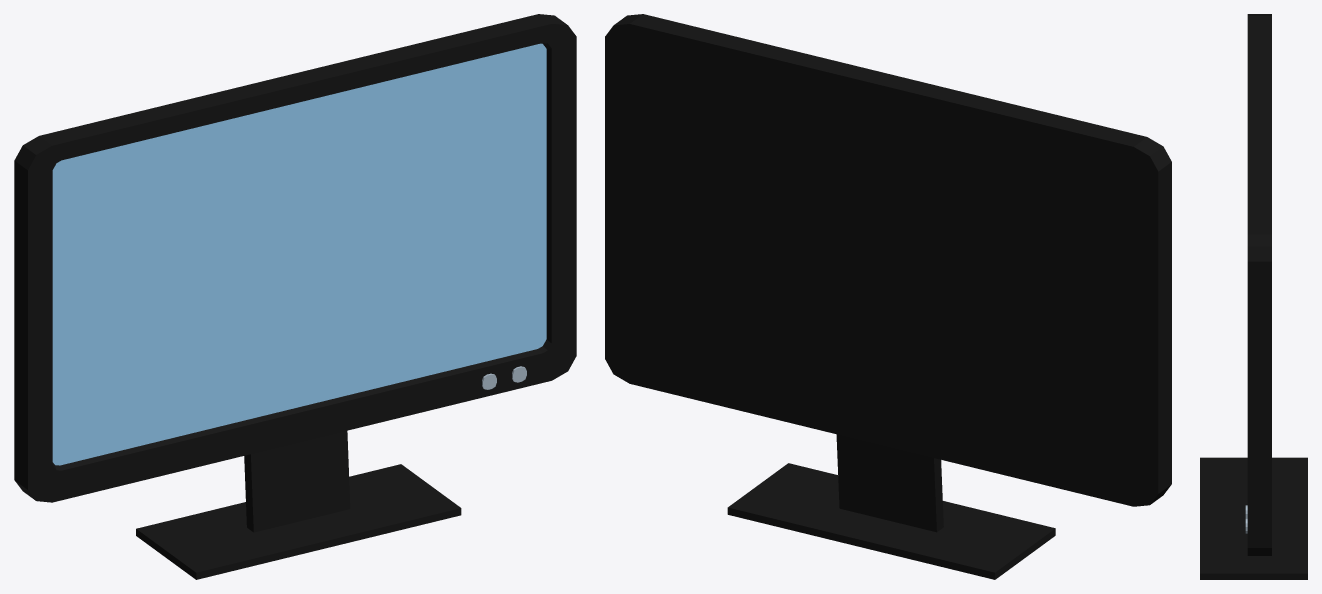
Rendered from monitor.fbx.
The picture shows the model from 3 angles, left to right: view 1: azimuth 30°, elevation 25°; view 2: azimuth 150°, elevation 25°; view 3: azimuth 270°, elevation 25°; orthographic projection. The views are drawn at different scales.
Visible parts, largest first — view 1: monitor; view 2: monitor; view 3: monitor.
Boxes of the visible parts, x1,y1,x2,y2 form: monitor: [14, 14, 576, 579]; monitor: [605, 14, 1171, 579]; monitor: [1200, 14, 1307, 579].
Size of the model in its own units: 1.06 by 0.8209 by 0.2019.
Materials: 1 (1 with a texture image).
